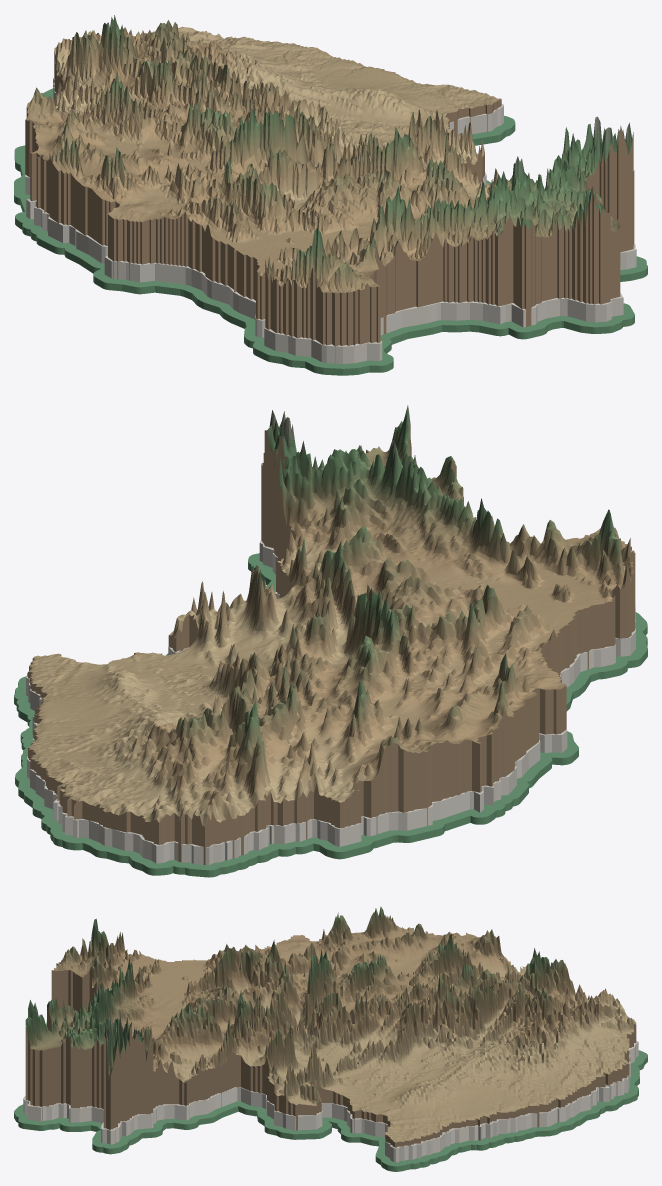
File: coahuila-mapa.glb
3 views of the same model, one above another, from view 1: azimuth 30°, elevation 25°; view 2: azimuth 150°, elevation 25°; view 3: azimuth 270°, elevation 25° (orthographic). The views are drawn at different scales.
Visible parts, largest first — view 1: geometry_3, geometry_2, geometry_1, geometry_0; view 2: geometry_3, geometry_2, geometry_1, geometry_0; view 3: geometry_3, geometry_2, geometry_1, geometry_0.
Part boxes in pixels (x1,y1,x2,y2): geometry_3: (25,15,634,293); geometry_2: (25,45,634,363); geometry_1: (25,78,636,363); geometry_0: (14,88,647,375); geometry_3: (28,405,634,826); geometry_2: (28,424,635,864); geometry_1: (26,540,635,865); geometry_0: (14,553,647,877); geometry_3: (25,906,636,1142); geometry_2: (25,963,636,1147); geometry_1: (23,1040,638,1162); geometry_0: (14,1021,647,1171).
Size of the model in its own units: 1.45 by 0.4502 by 2.06.
